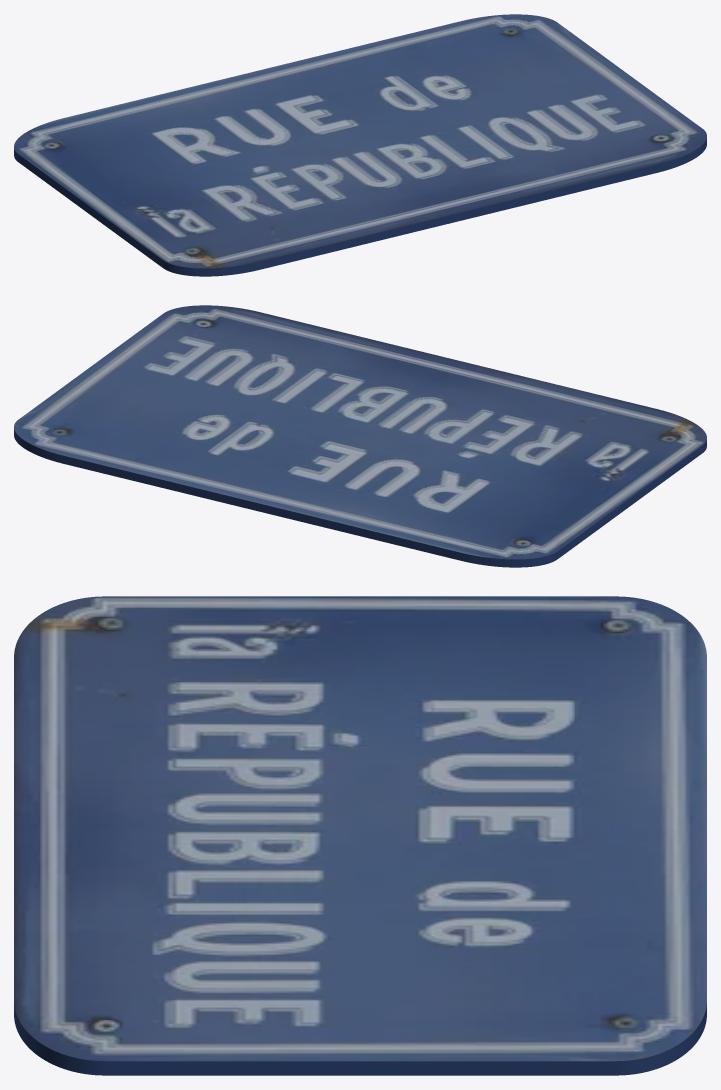
Rendered from french-sign.glb.
3 views of the same model, one above another, from view 1: azimuth 30°, elevation 25°; view 2: azimuth 150°, elevation 25°; view 3: azimuth 270°, elevation 25° (orthographic). The views are drawn at different scales.
Visible parts, largest first — view 1: P1040088; view 2: P1040088; view 3: P1040088.
Part boxes in pixels (<box>): P1040088: <box>14,14,706,276</box>; P1040088: <box>14,305,706,567</box>; P1040088: <box>14,596,706,1075</box>.
Size of the model in its own units: 0.5 by 0.0072 by 0.3151.
2 materials, 1 textured.
